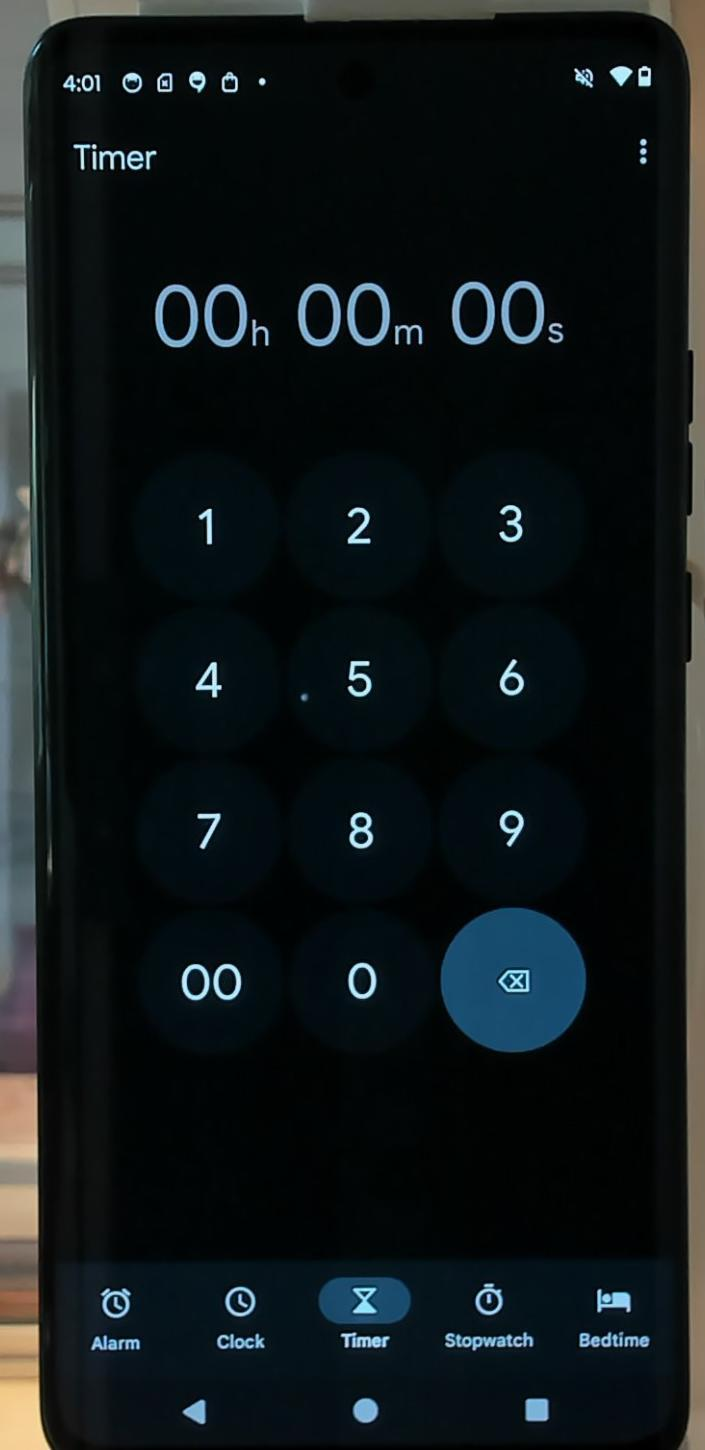NumKeyboard: (133, 465, 617, 1072)
